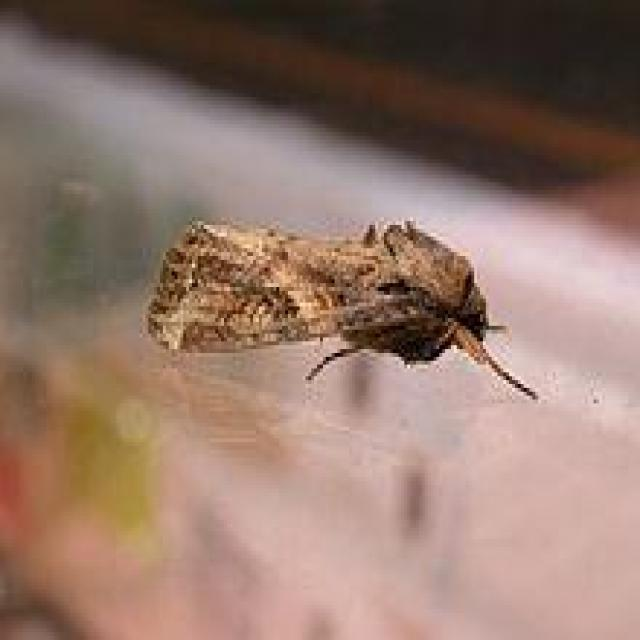BeetArmyWorm-Adult-: (141, 194, 571, 408)
